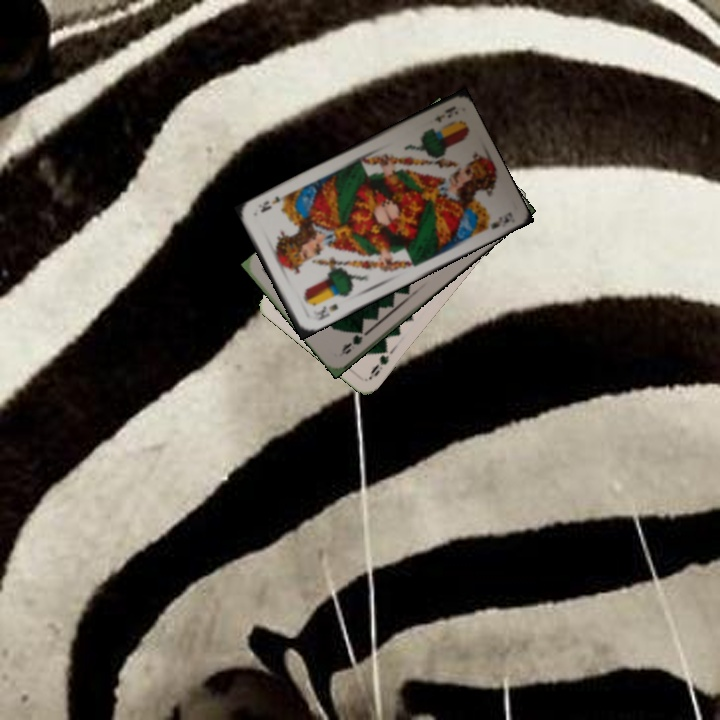EK: (308, 299, 341, 324), (430, 102, 458, 125)
G9: (335, 325, 370, 357), (365, 343, 392, 381)
